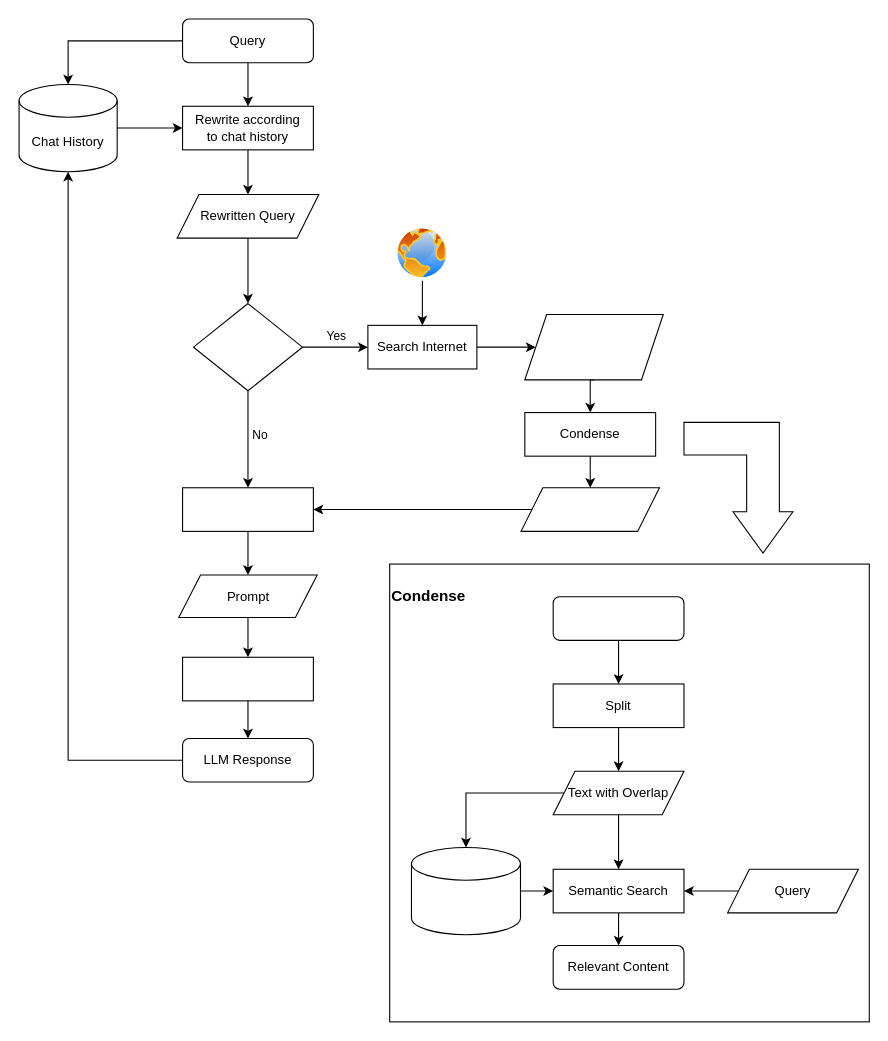
The diagram is 888 pixels wide and 1041 high, and some of its shapes have lost their labels. Here are the shapes that lost their labels. From the top down, the box of each, then its label:
(192, 302, 302, 391): Need Search
(524, 313, 663, 380): Search Results (Snippets and Web Pages)
(181, 487, 313, 531): Create Prompt
(520, 487, 659, 531): Relevant Web Content
(552, 596, 684, 640): Search Results
(181, 656, 313, 701): LLM Generate
(410, 846, 520, 935): Vector Database
